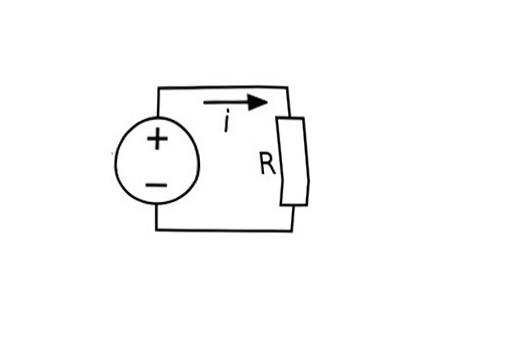Battery: (95, 103, 209, 222)
